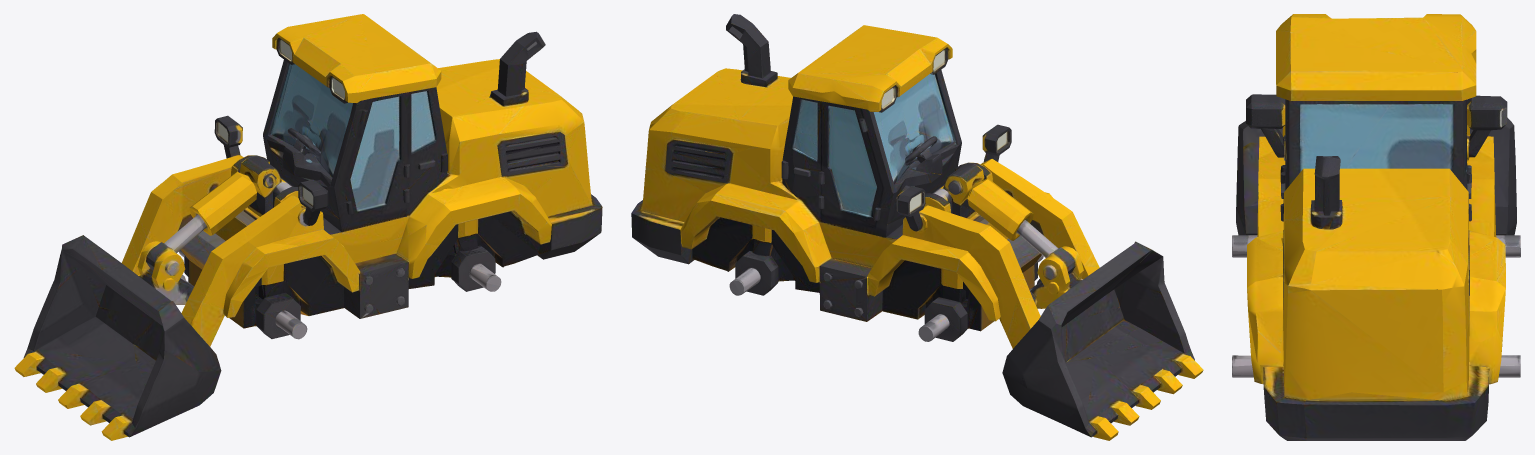
File: excavadora.glb
The picture shows the model from 3 angles, left to right: view 1: azimuth 30°, elevation 25°; view 2: azimuth 150°, elevation 25°; view 3: azimuth 270°, elevation 25°; orthographic projection. The views are drawn at different scales.
Size of the model in its own units: 1.9 by 1.05 by 0.742.
Materials: 1 (1 with a texture image).
